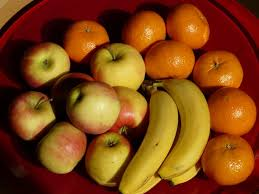apple: (88, 42, 150, 93), (83, 133, 138, 190), (67, 79, 123, 134), (40, 125, 89, 173), (21, 43, 73, 88), (10, 90, 55, 142), (111, 84, 153, 135)
banana: (115, 79, 211, 194)
orange: (206, 84, 258, 137), (204, 134, 257, 186), (191, 47, 250, 92), (165, 3, 217, 50), (141, 38, 196, 80), (122, 11, 169, 54), (66, 20, 111, 64)
